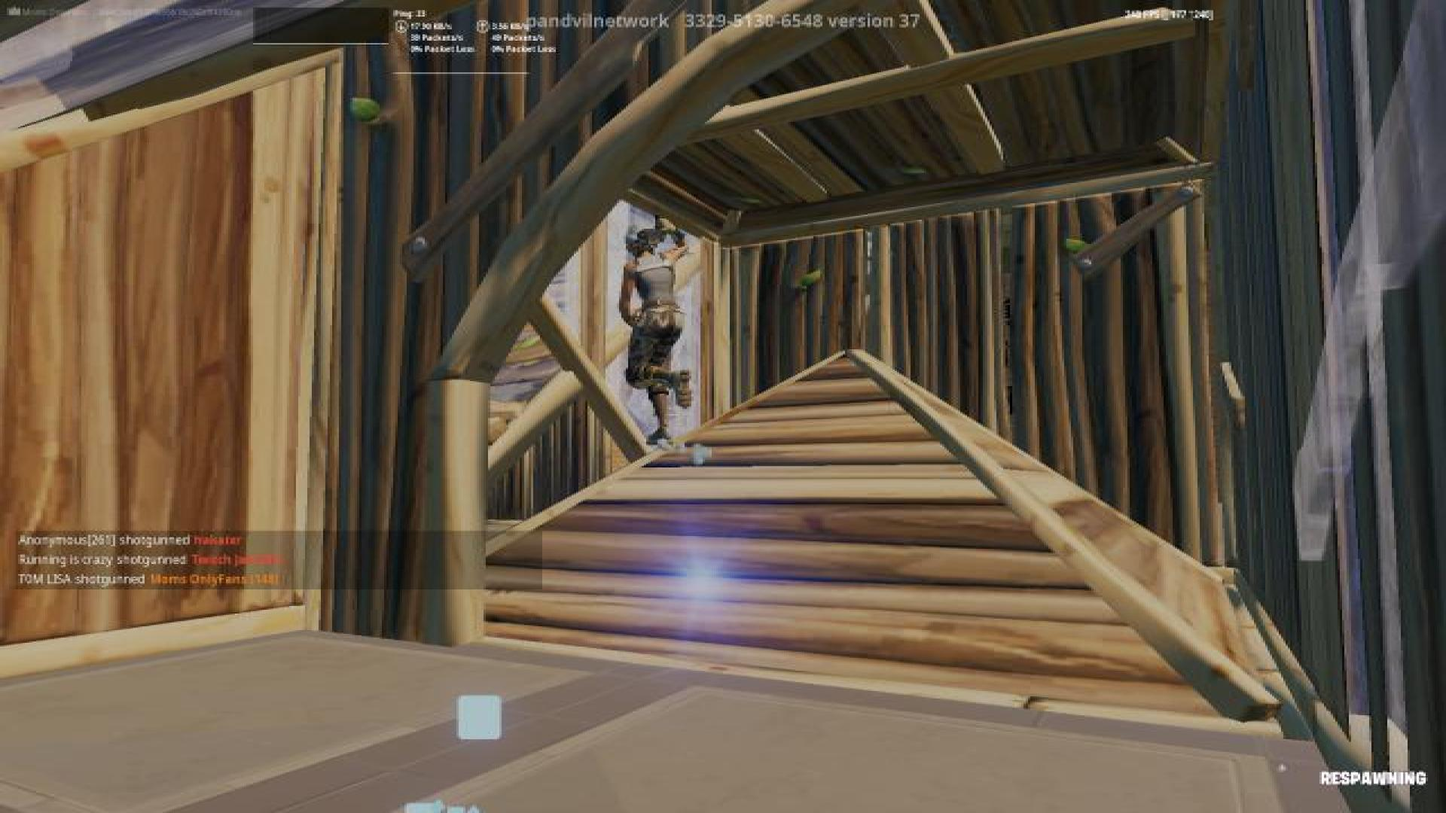player: (589, 228, 726, 458)
